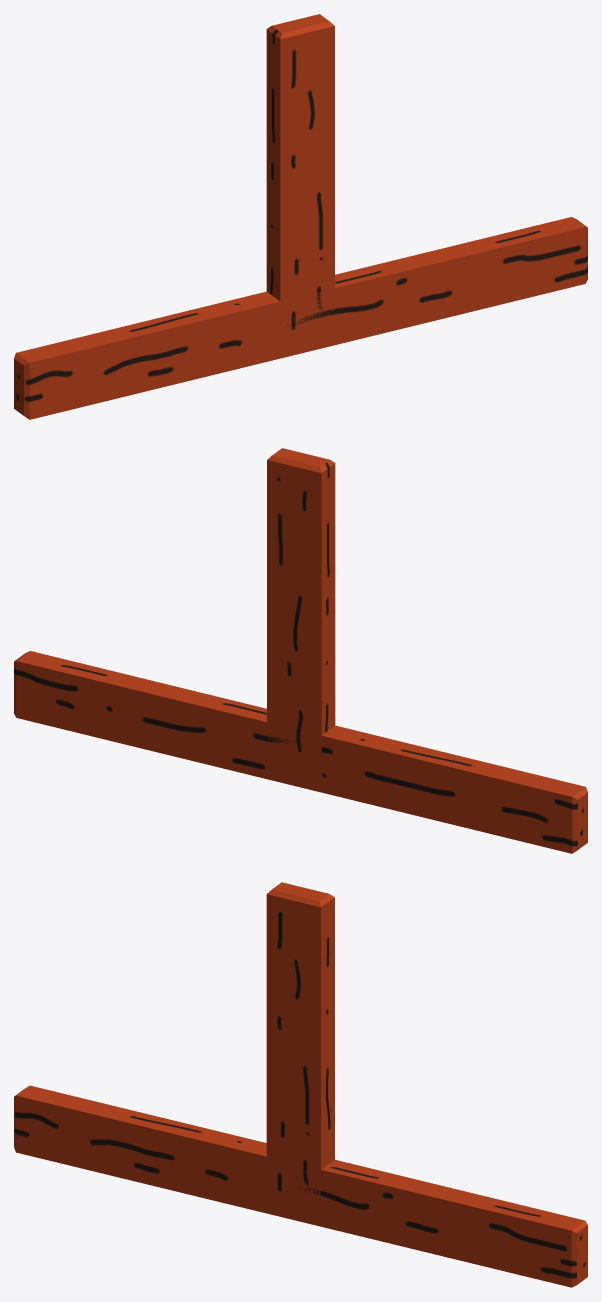
File: Fence.fbx
3 renders of one model, top to bottom at view 1: azimuth 30°, elevation 25°; view 2: azimuth 150°, elevation 25°; view 3: azimuth 330°, elevation 25°, orthographic.
Visible parts, largest first — view 1: FenceH, FenceV; view 2: FenceH, FenceV; view 3: FenceH, FenceV.
Part boxes in pixels (x1,y1,x2,y2): FenceH: (14, 217, 587, 419); FenceV: (266, 14, 334, 332); FenceH: (14, 651, 587, 853); FenceV: (267, 448, 335, 766); FenceH: (14, 1085, 587, 1287); FenceV: (266, 882, 334, 1200).
Size of the model in its own units: 149 by 6.31 by 81.57.
